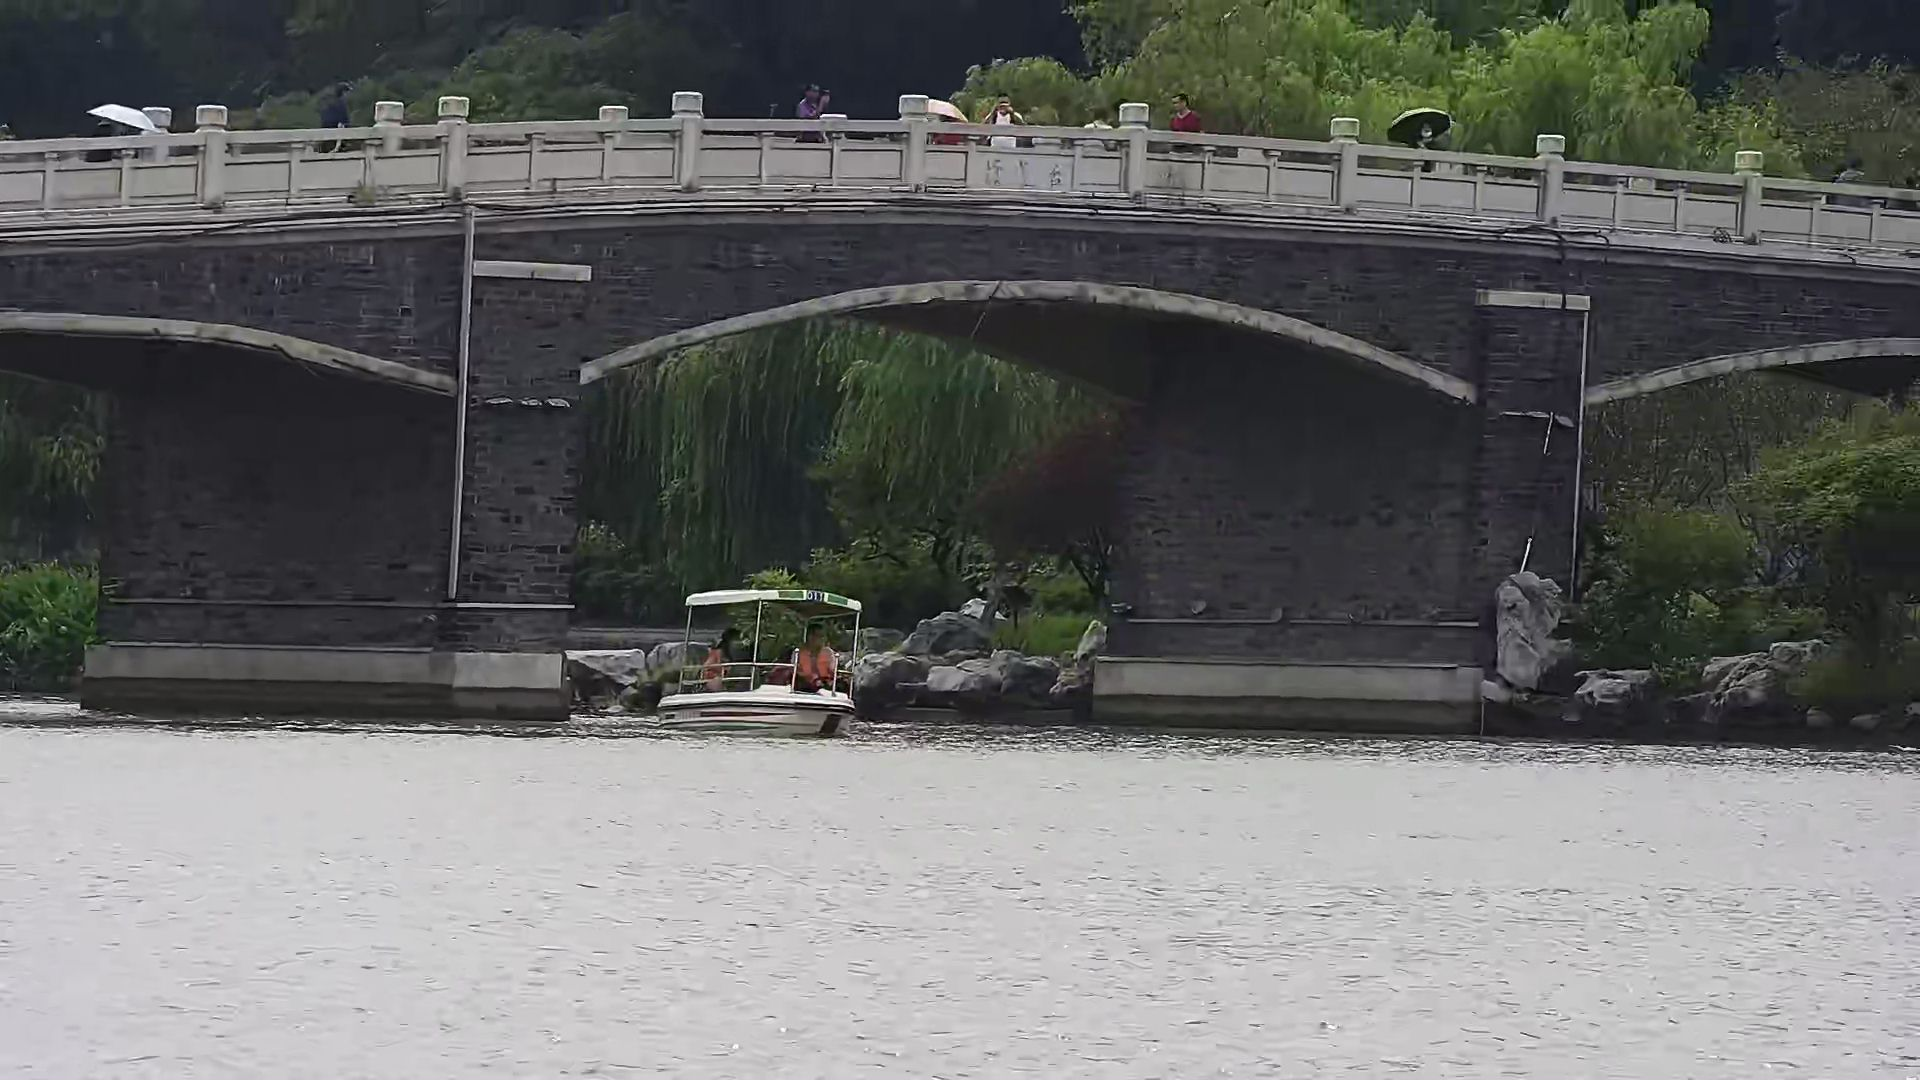boat: (650, 572, 881, 745)
bridge: (3, 105, 1920, 731)
